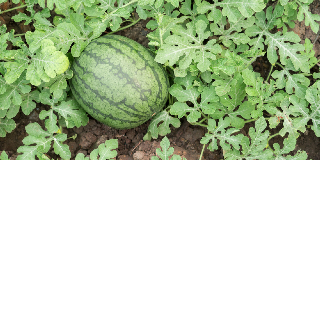dua_hau: (66, 33, 171, 132)
